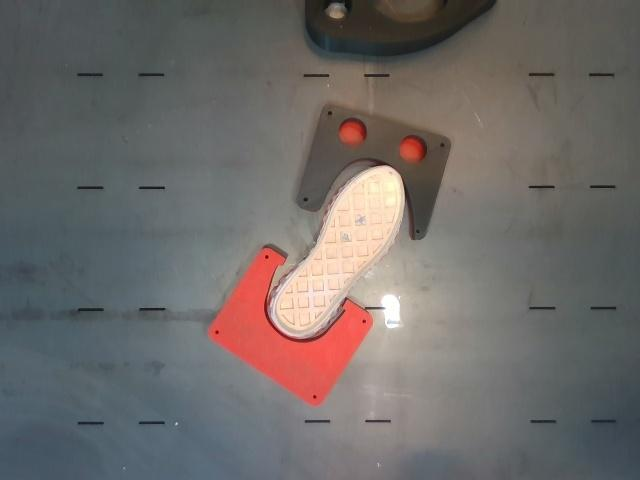shoes: (275, 166, 403, 334)
